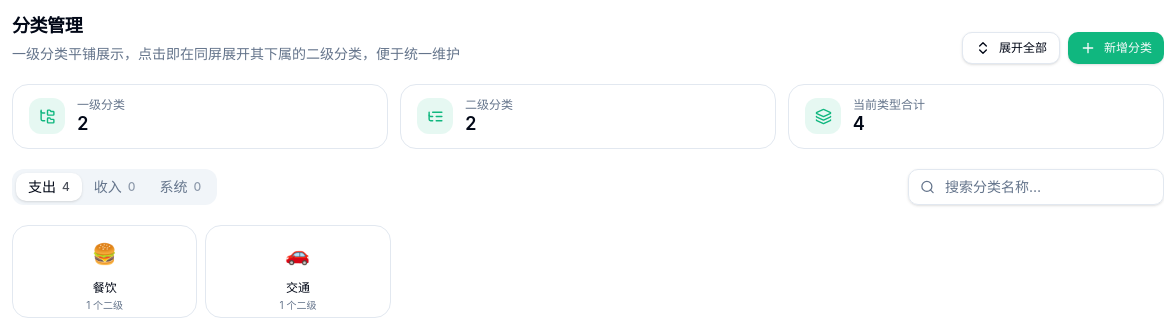
Scenario: 分类管理页 - 搜索功能 › 输入关键词后显示搜索结果
Expected: the text "餐饮" is shown, [93, 280, 117, 294]
Type "早餐" into the field with placeholder "搜索分类名称…".
click(1036, 186); type("早餐")  # box [908, 168, 1164, 204]
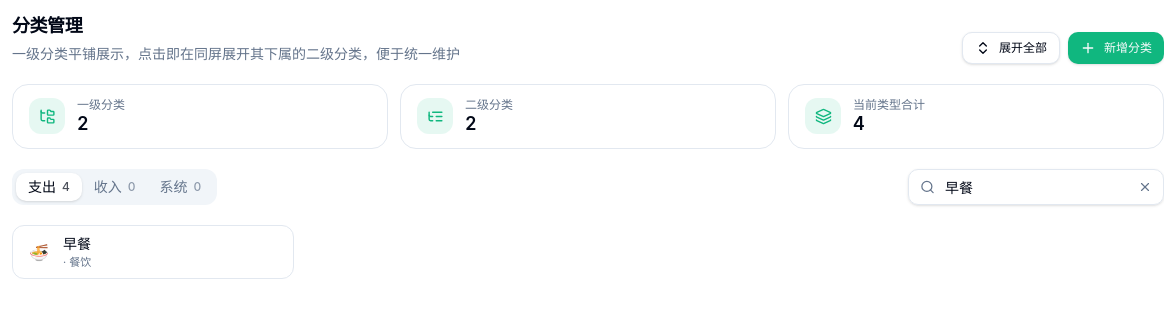
Now the element with test id "category-search-results" is shown, box [12, 224, 294, 279]
